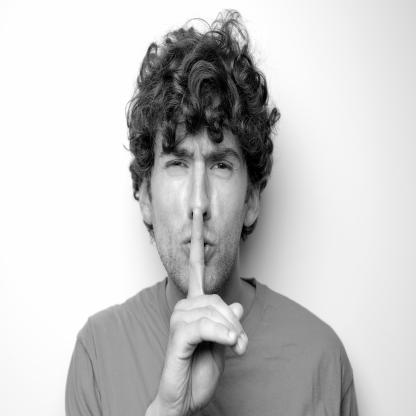Eye: (164, 151, 192, 175), (207, 158, 236, 178)
Mouth: (180, 232, 218, 258)
Nose: (186, 165, 214, 221)
